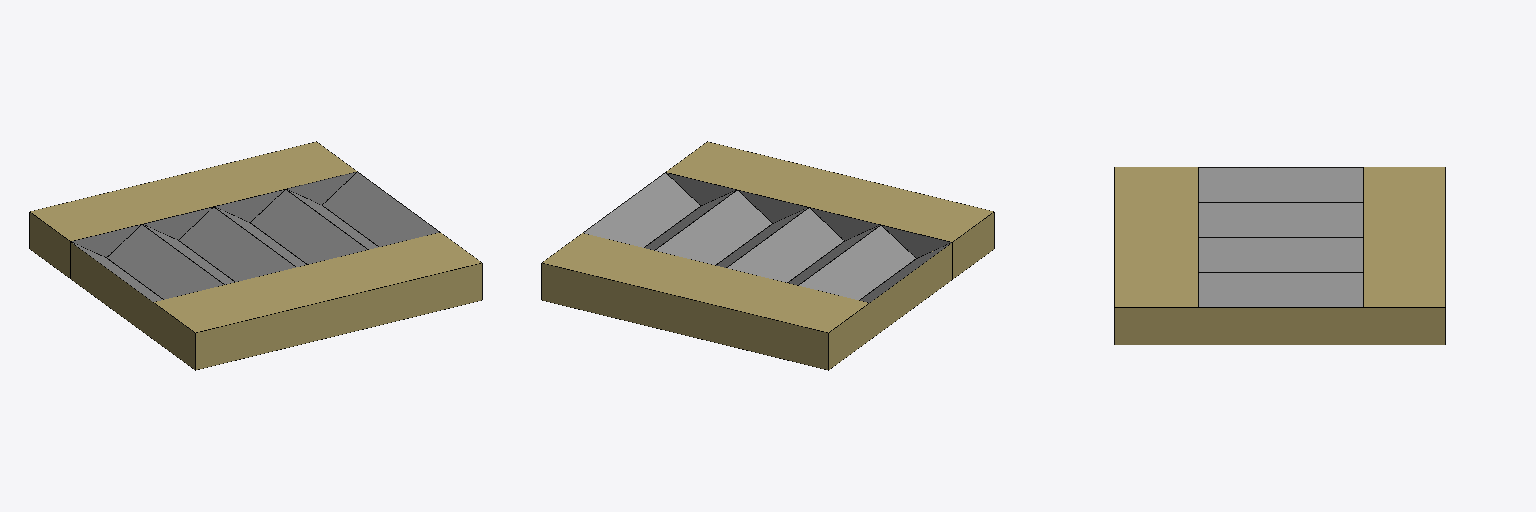
3 renders of one model, left to right at view 1: azimuth 30°, elevation 25°; view 2: azimuth 150°, elevation 25°; view 3: azimuth 270°, elevation 25°, orthographic.
Parts seen in each view (by area): view 1: bulkHead_floor_track_Cube.005; view 2: bulkHead_floor_track_Cube.005; view 3: bulkHead_floor_track_Cube.005.
Part boxes in pixels (x1,y1,x2,y2): bulkHead_floor_track_Cube.005: (29, 141, 482, 370); bulkHead_floor_track_Cube.005: (541, 141, 994, 370); bulkHead_floor_track_Cube.005: (1114, 167, 1445, 344).
Bounding box in the file's own units: 2 × 0.25 × 2.
1 materials, 1 textured.